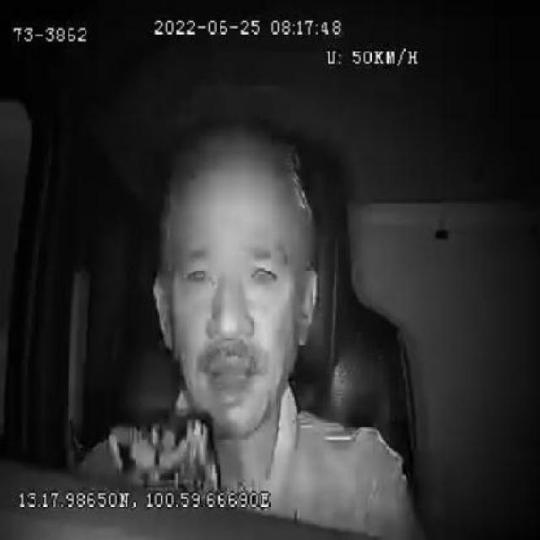phone: (104, 408, 222, 491)
